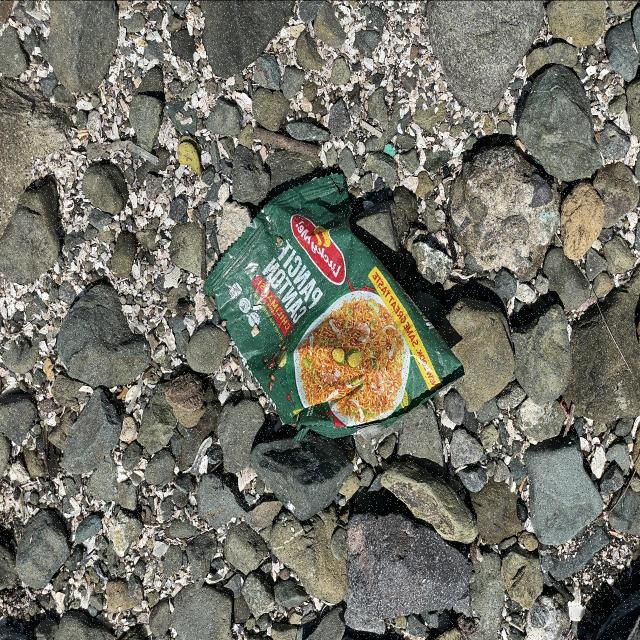plastic_waste: (208, 173, 469, 437)
